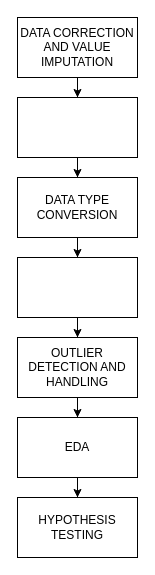
Some shapes in this 155 by 575 pixel diagram are drawn without their labels. Each missing label, with the box of its shape:
CATEGORICAL DATA HANDLING: (16, 256, 138, 318)
DATA MASKING AND STRING HANDLING: (16, 96, 138, 158)
